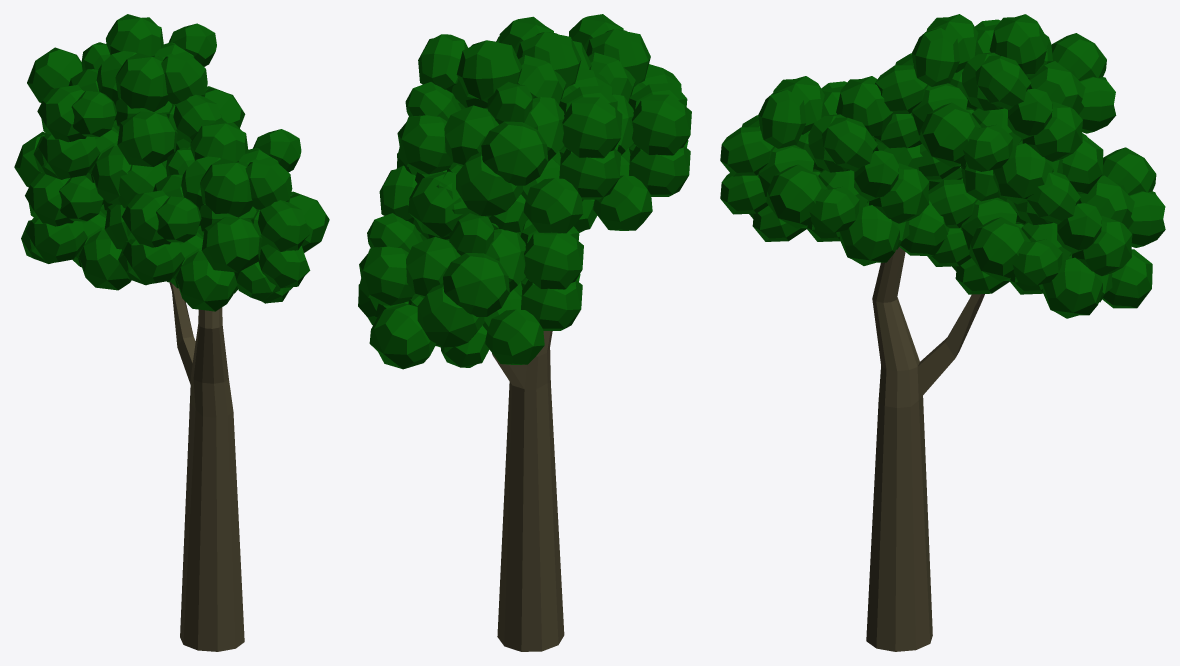
The model's file is tall_tree.fbx.
3 renders of one model, left to right at view 1: azimuth 30°, elevation 25°; view 2: azimuth 150°, elevation 25°; view 3: azimuth 270°, elevation 25°, orthographic. The views are drawn at different scales.
Parts seen in each view (by area): view 1: polySurface56; view 2: polySurface56; view 3: polySurface56.
Part boxes in pixels (<box>): polySurface56: <box>14,14,329,651</box>; polySurface56: <box>358,14,691,651</box>; polySurface56: <box>720,14,1165,651</box>.
Bounding box in the file's own units: 6.4 × 18.43 × 12.2.
